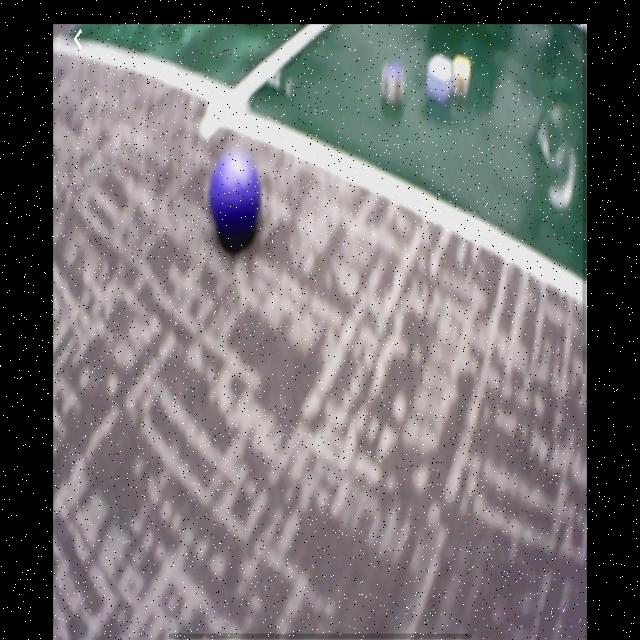ball: (211, 152, 263, 238)
